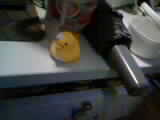duck: (52, 27, 81, 60)
